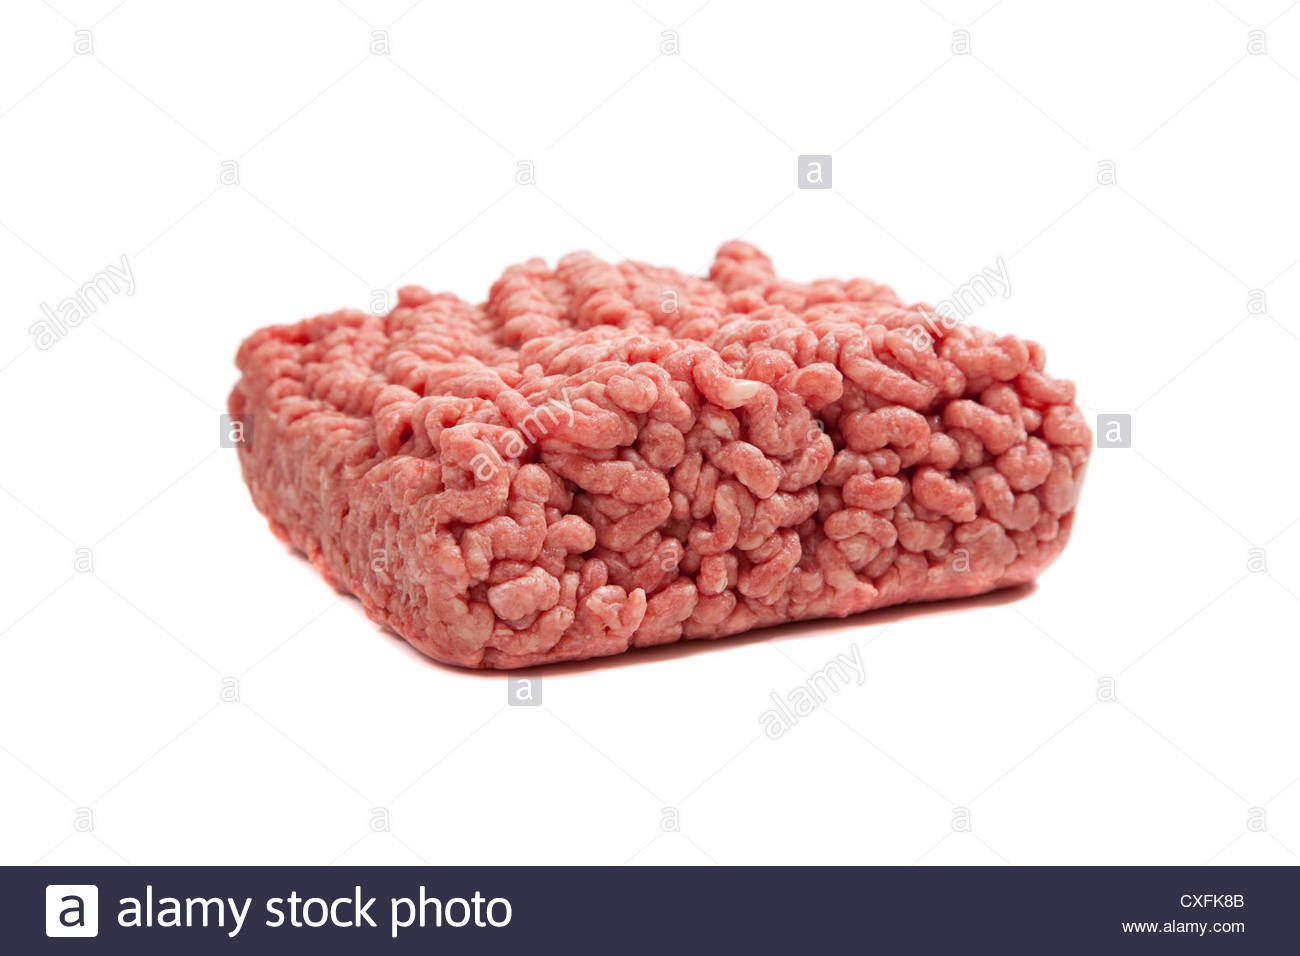ground_beef: (276, 238, 1110, 644)
